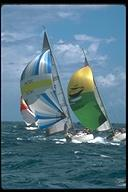sailboat: (19, 25, 96, 143), (67, 46, 125, 142), (18, 94, 40, 132)
sky: (53, 6, 125, 45), (2, 6, 40, 52)
water: (2, 144, 125, 187)
